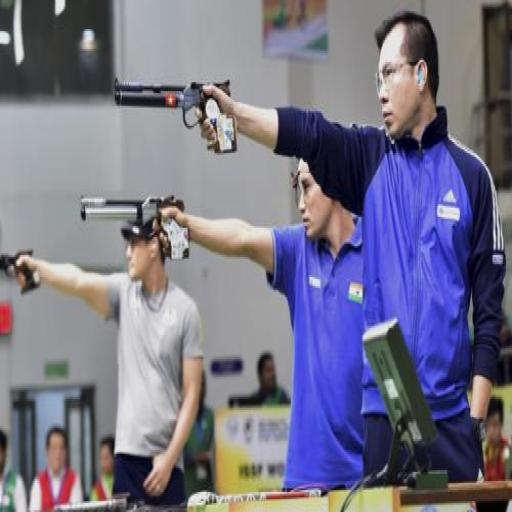shooting: (198, 9, 508, 494), (158, 153, 368, 496), (12, 197, 207, 510)
